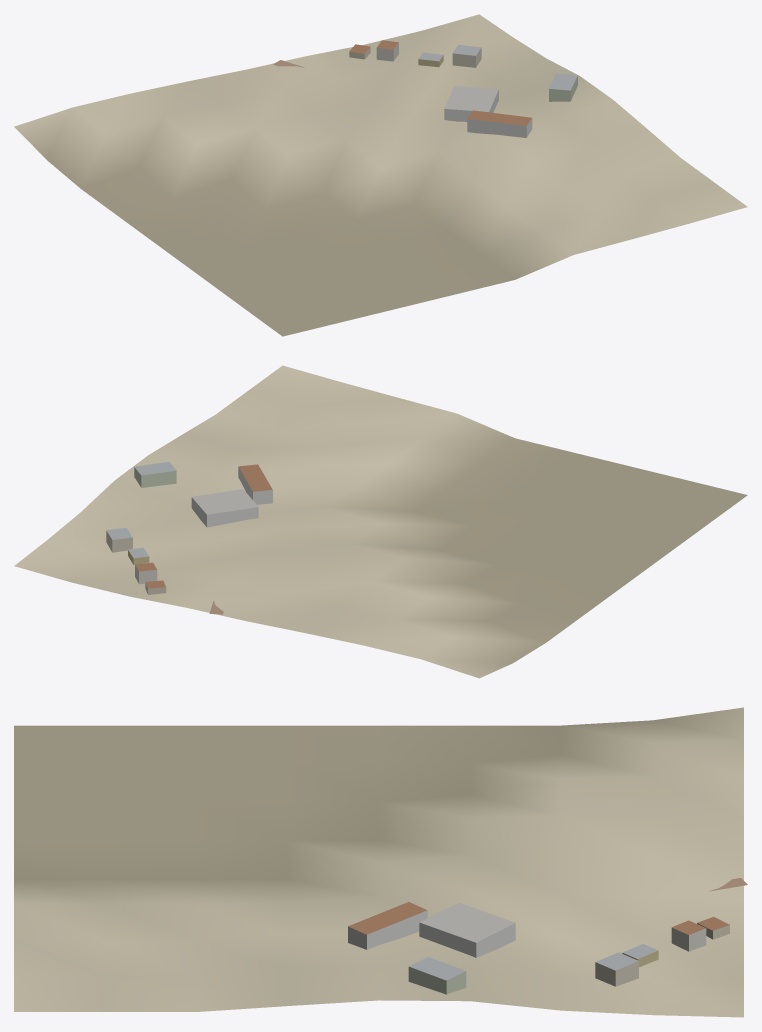
3 renders of one model, top to bottom at view 1: azimuth 30°, elevation 25°; view 2: azimuth 150°, elevation 25°; view 3: azimuth 270°, elevation 25°, orthographic. The views are drawn at different scales.
Parts seen in each view (by area): view 1: Lo; view 2: Lo; view 3: Lo.
Part boxes in pixels (left/top/right/bottom): Lo: left=14, top=14, right=747, bottom=336; Lo: left=14, top=365, right=747, bottom=678; Lo: left=14, top=707, right=747, bottom=1017.
Size of the model in its own units: 256 by 17.87 by 257.
